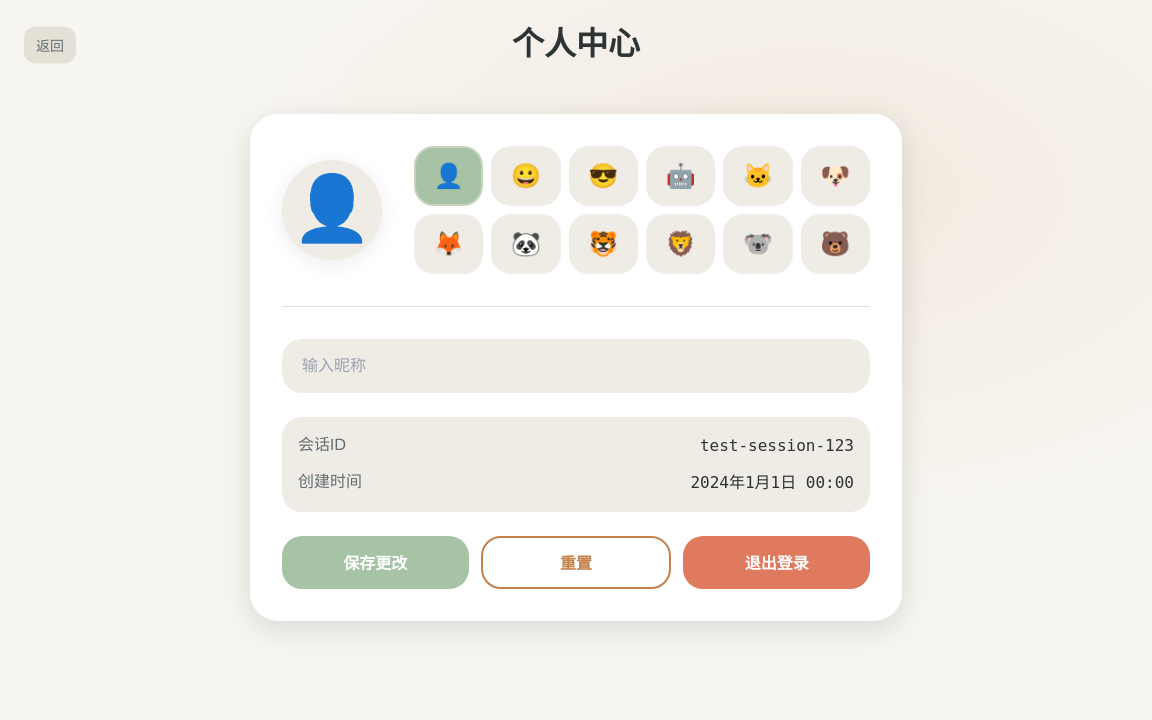
Scenario: ProfileView › 表单操作测试 › 保存时应该禁用按钮
Type "新昵称" into the field with placeholder "输入昵称" at (576, 366), box [282,339,870,393]
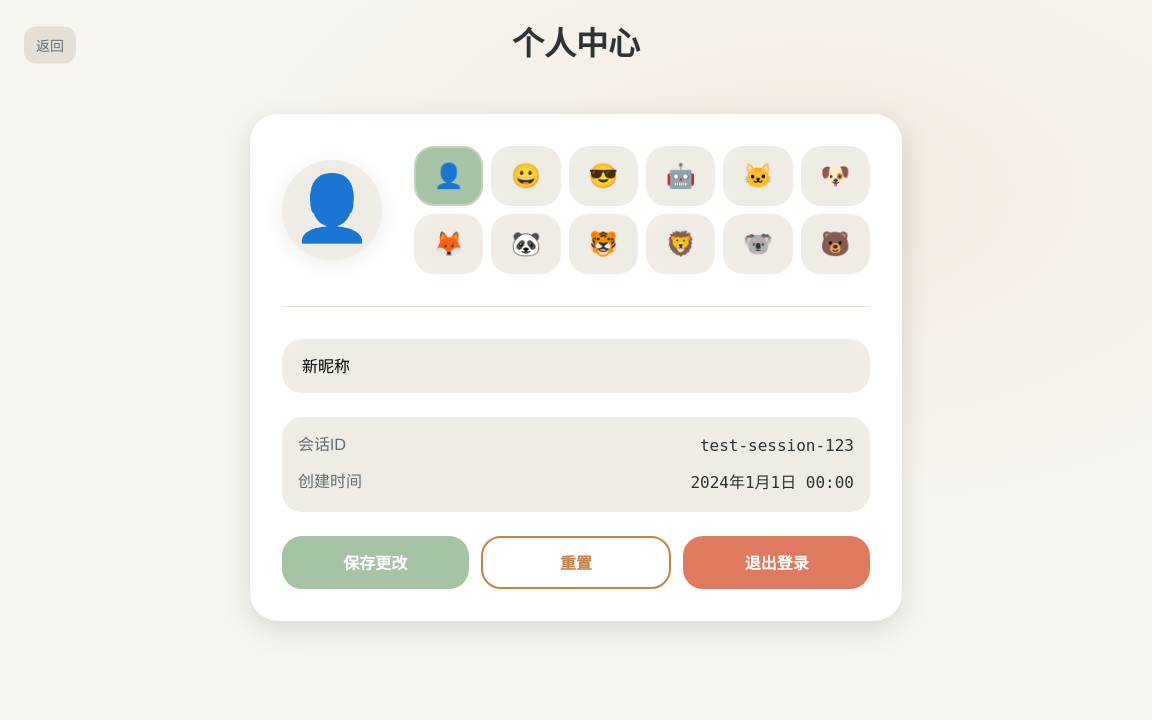
Submit the form from the button "保存更改", box [282,536,469,589]
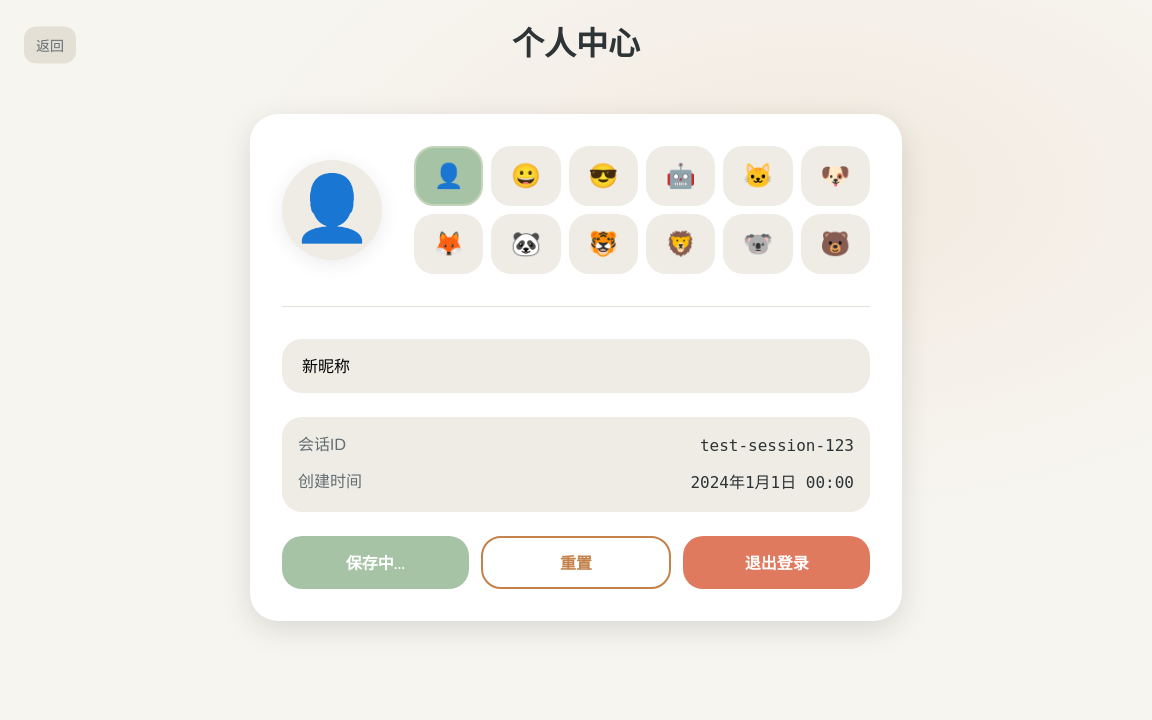
Result: the button "保存中..." is disabled at [282,536,469,589]
Result: the button "保存中..." is shown at [282,536,469,589]
